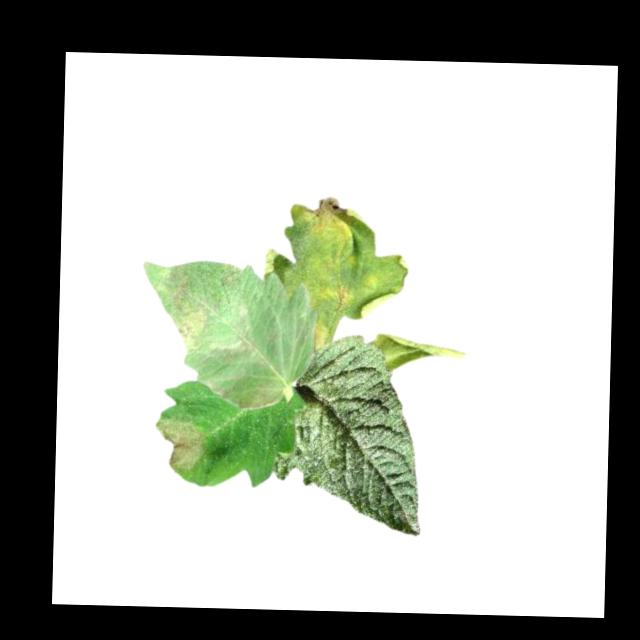Late_blight: (160, 264, 208, 350), (372, 332, 469, 372), (198, 374, 283, 411), (305, 196, 361, 244), (155, 418, 204, 472), (326, 283, 351, 311), (220, 262, 240, 291), (312, 319, 328, 352)
